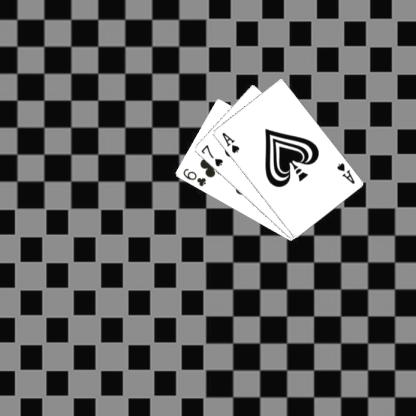6C: (180, 166, 207, 188)
7S: (198, 142, 224, 168)
AS: (334, 160, 356, 185), (219, 130, 240, 154)
